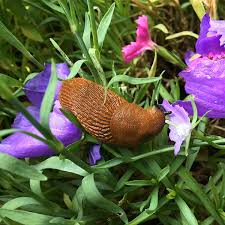slug: (59, 80, 173, 146)
